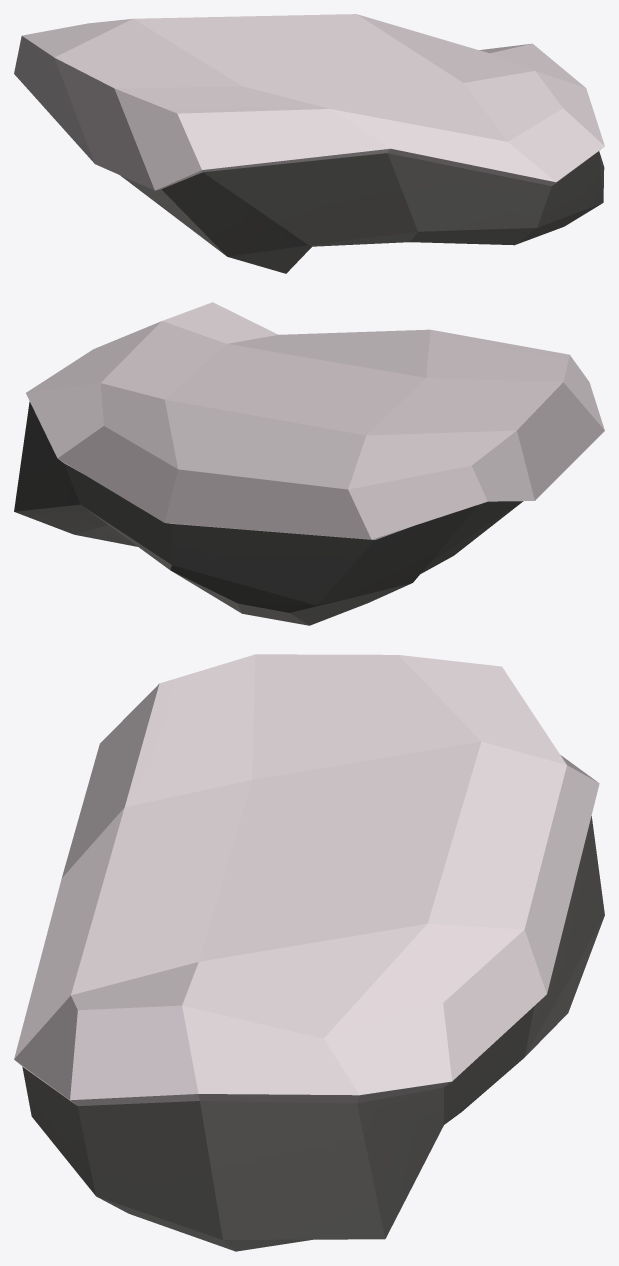
File: Rock_Snow_1.fbx
The picture shows the model from 3 angles, top to bottom: view 1: azimuth 30°, elevation 25°; view 2: azimuth 150°, elevation 25°; view 3: azimuth 270°, elevation 25°; orthographic projection. The views are drawn at different scales.
Parts seen in each view (by area): view 1: Rock_Snow_1; view 2: Rock_Snow_1; view 3: Rock_Snow_1.
Boxes of the visible parts, bbox=[...] form: Rock_Snow_1: bbox=[14, 14, 604, 273]; Rock_Snow_1: bbox=[14, 302, 604, 625]; Rock_Snow_1: bbox=[14, 654, 604, 1251].
Size of the model in its own units: 263 by 115 by 195.
1 material, 1 textured.
